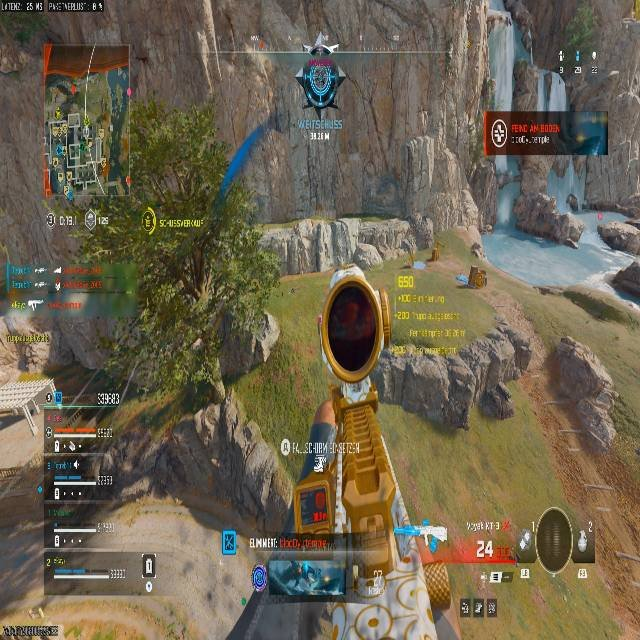head: (324, 272, 387, 370)
player: (303, 263, 637, 636)
